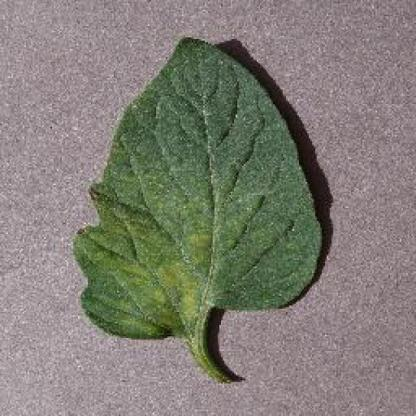Tomato_Spider_Mites: (74, 36, 321, 337)
